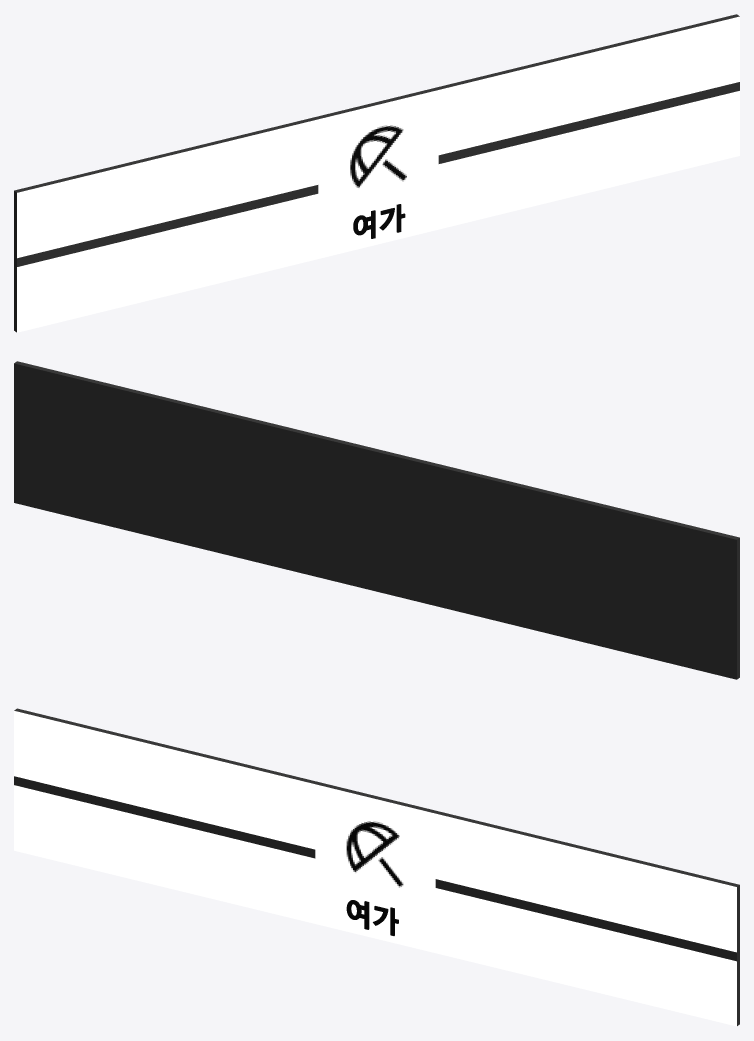
Rendered from top01_01.glb.
The picture shows the model from 3 angles, top to bottom: view 1: azimuth 30°, elevation 25°; view 2: azimuth 150°, elevation 25°; view 3: azimuth 330°, elevation 25°; orthographic projection.
Visible parts, largest first — view 1: Cube.283, Plane.001, Text.090; view 2: Cube.283; view 3: Cube.283, Plane.001, Text.090.
Boxes of the visible parts, x1=… form: Cube.283: x1=14, y1=14, x2=739, y2=332; Plane.001: x1=350, y1=125, x2=406, y2=187; Text.090: x1=353, y1=204, x2=405, y2=238; Cube.283: x1=14, y1=361, x2=739, y2=679; Cube.283: x1=14, y1=708, x2=739, y2=1026; Plane.001: x1=346, y1=821, x2=403, y2=887; Text.090: x1=346, y1=900, x2=398, y2=935.
Bounding box in the file's own units: 2.72 × 0.5039 × 0.035.
Materials: 4 (1 with a texture image).
